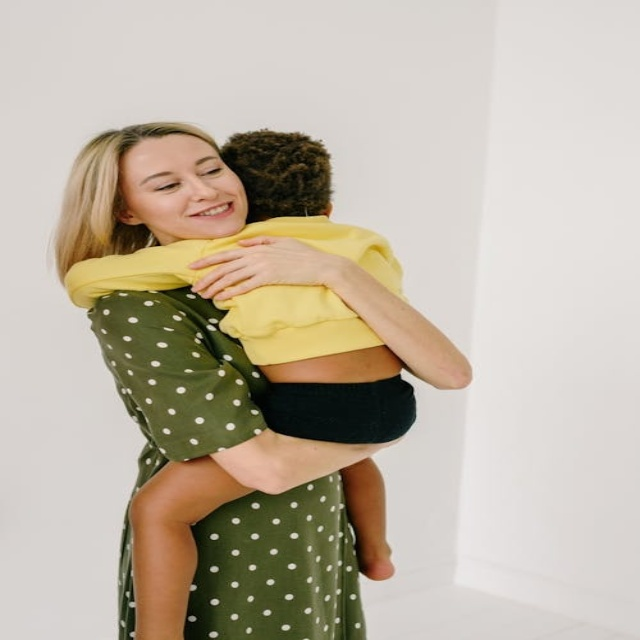Sin_gafas: (136, 150, 227, 196)
Sin_guantes: (192, 234, 355, 299)
Sin_mascara: (177, 195, 242, 235)
